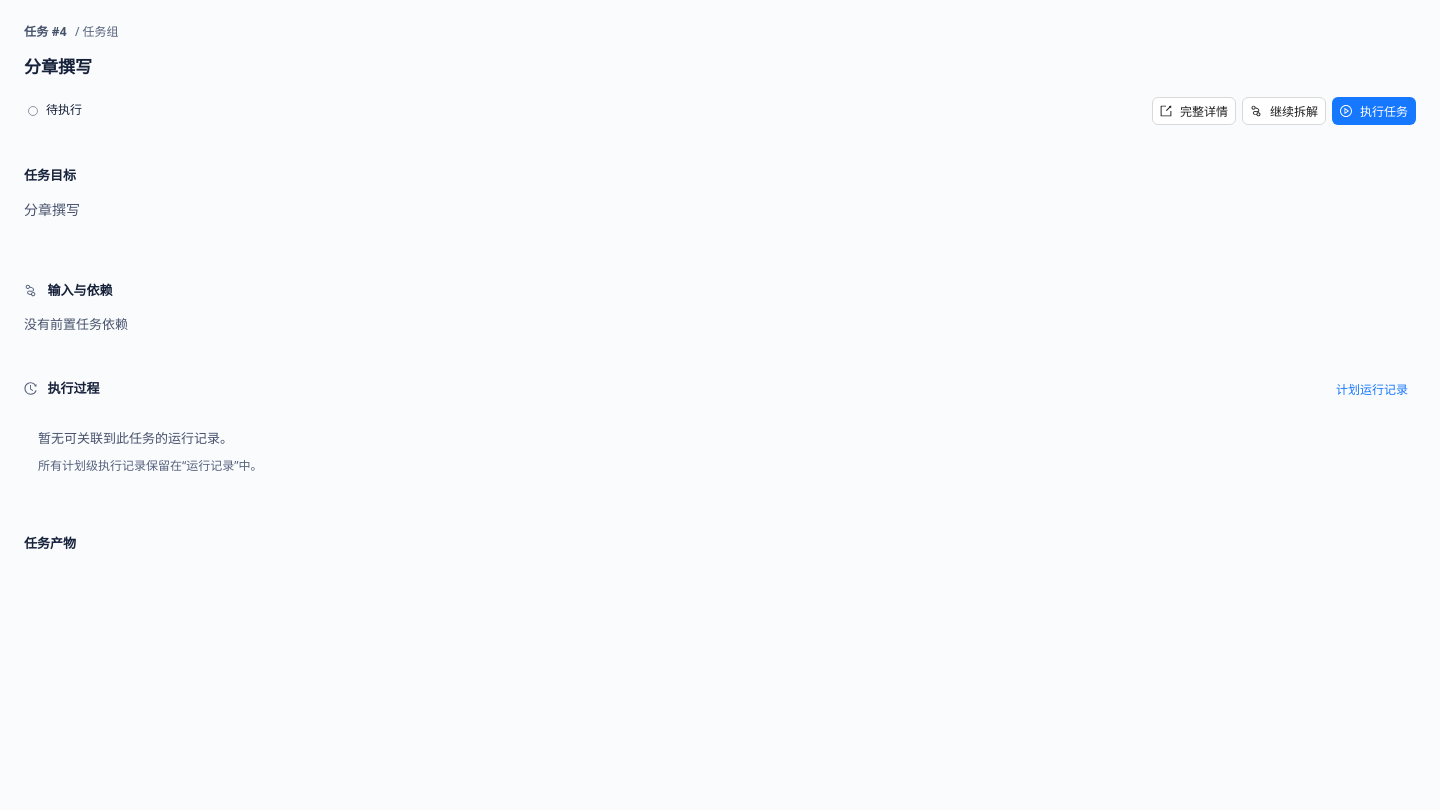
Test: unfinished stage continuation › leaves failed submissions retryable and shows the concrete error
Click the button "继续拆解" at (1284, 111), box [1242, 97, 1326, 125]
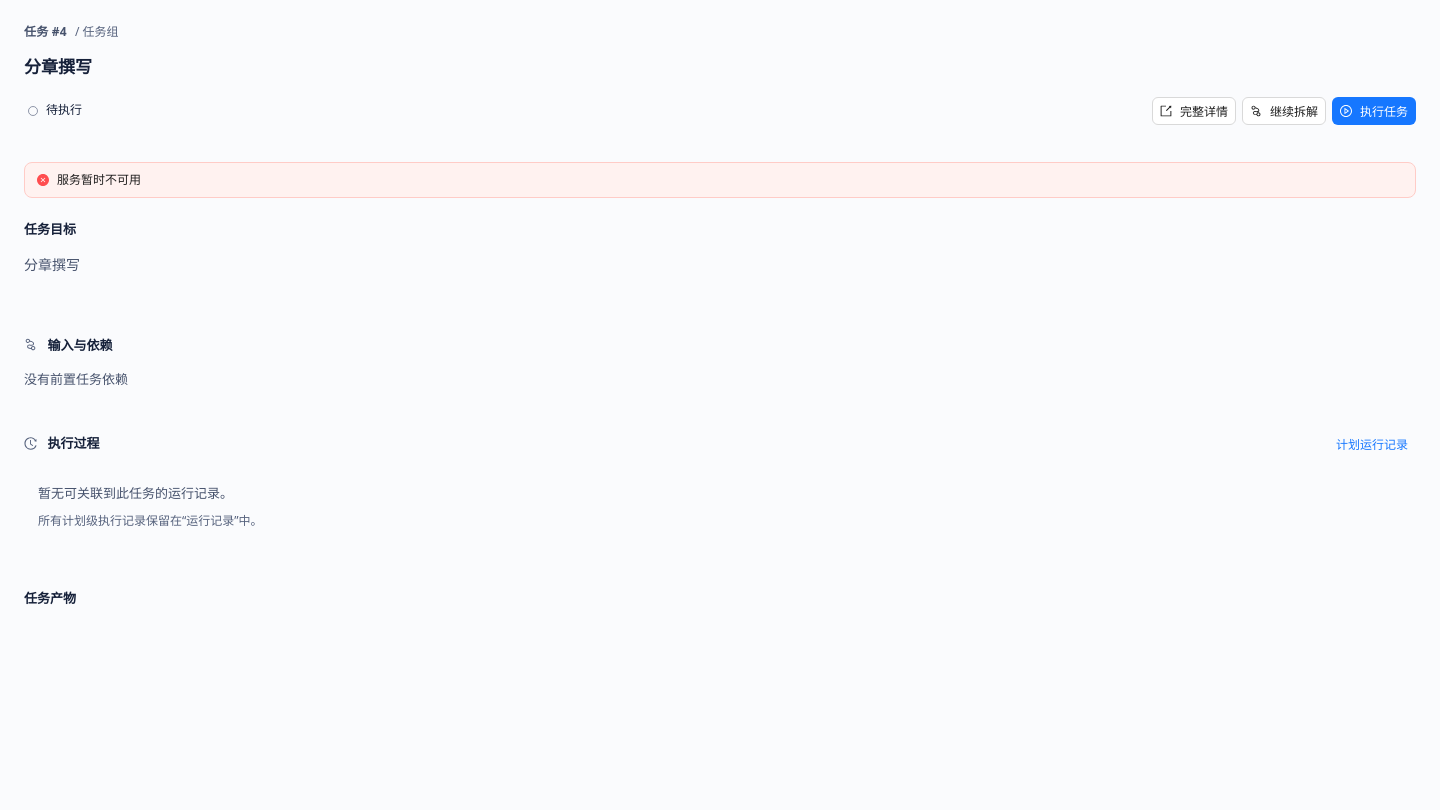
Now the text "服务暂时不可用" is shown, box [57, 172, 141, 187]
